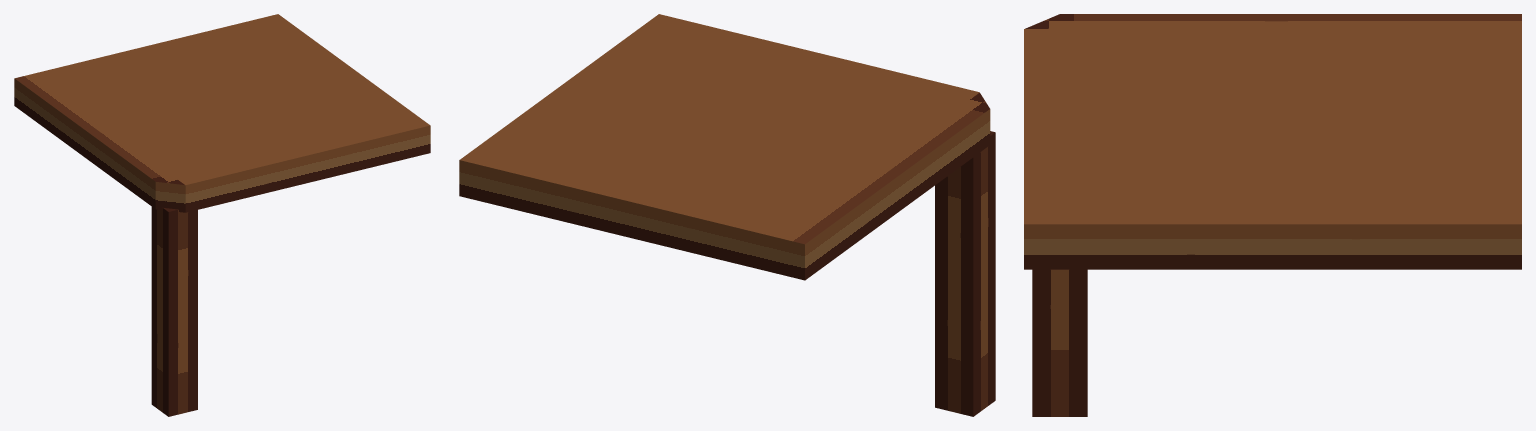
The model's file is wood_table_corner_1leg.glb.
3 renders of one model, left to right at view 1: azimuth 30°, elevation 25°; view 2: azimuth 150°, elevation 25°; view 3: azimuth 270°, elevation 25°, orthographic. The views are drawn at different scales.
Parts seen in each view (by area): view 1: wood_table_corner_1leg; view 2: wood_table_corner_1leg; view 3: wood_table_corner_1leg.
Part boxes in pixels (x1,y1,x2,y2): wood_table_corner_1leg: [14, 14, 430, 416]; wood_table_corner_1leg: [459, 14, 995, 416]; wood_table_corner_1leg: [1024, 14, 1521, 416].
Bounding box in the file's own units: 0.9 × 0.75 × 0.9.
Materials: 1 (1 with a texture image).
